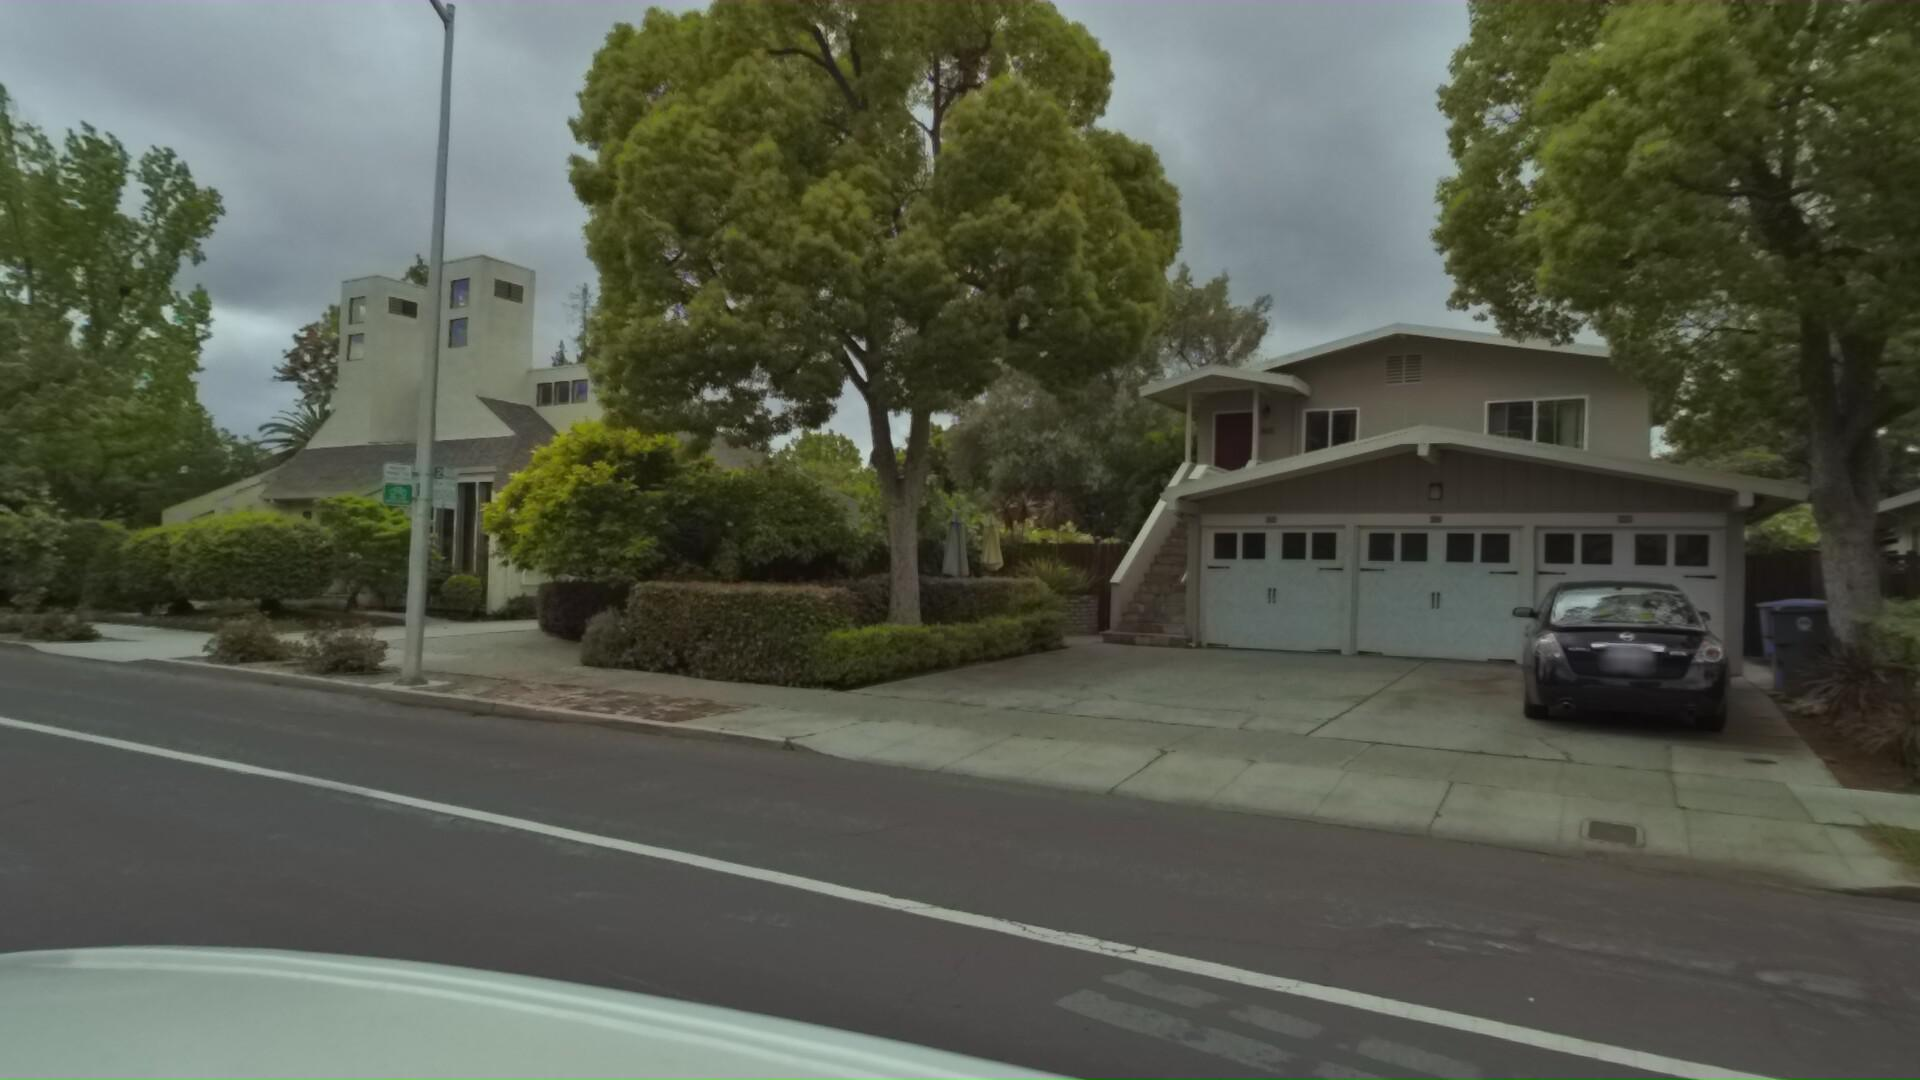car: (1473, 574, 1701, 746)
